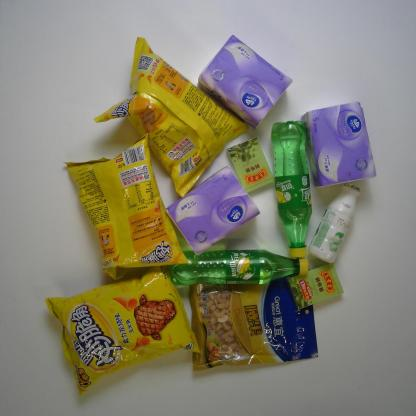Candy: (223, 134, 280, 196), (285, 259, 346, 313)
Dried Fruit: (186, 274, 323, 373)
Drink: (266, 116, 316, 260), (162, 245, 312, 288)
Milk: (304, 180, 366, 266)
Puffed Food: (91, 32, 252, 200), (39, 264, 204, 399), (59, 130, 192, 283)
Tissue: (194, 30, 296, 133), (161, 162, 264, 257), (299, 98, 380, 192)
